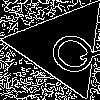Q: (37, 21, 100, 82)
